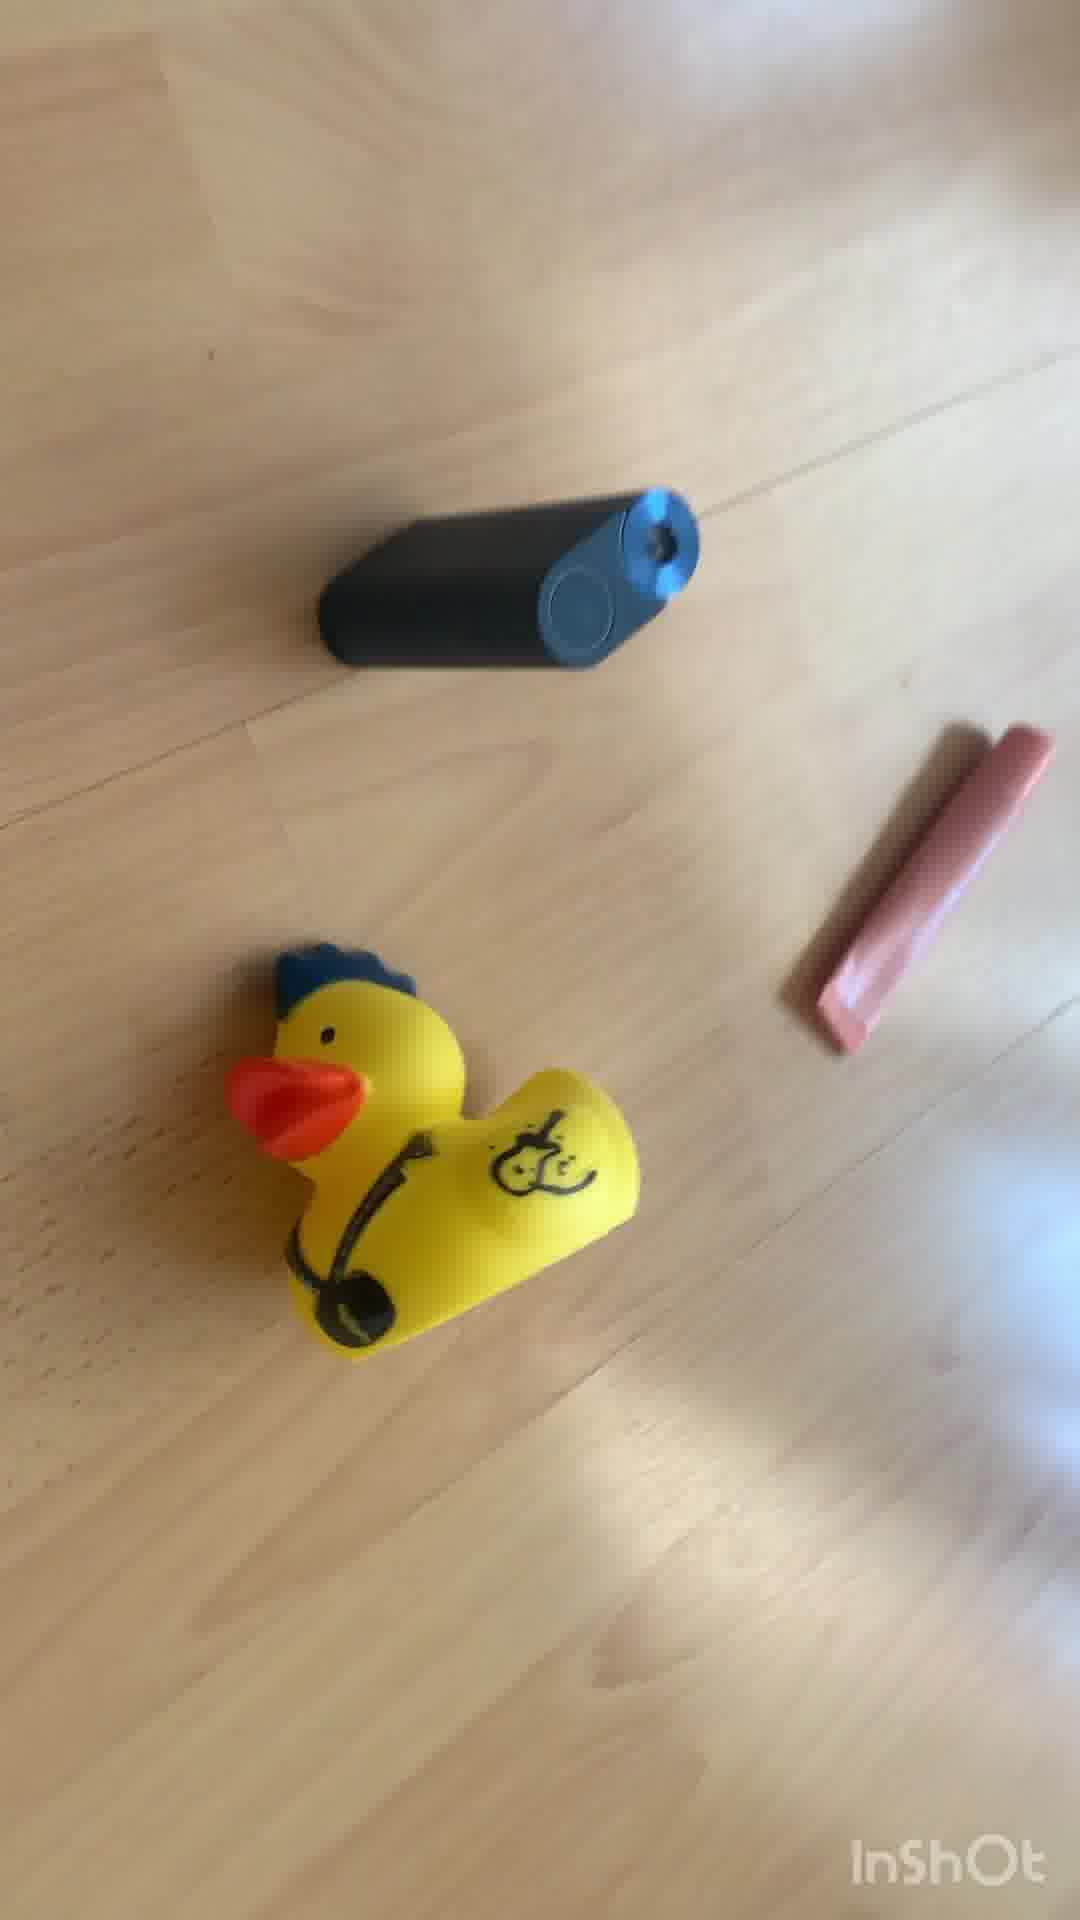duck: (215, 944, 646, 1362)
glo: (295, 491, 708, 680)
lip balm: (804, 727, 1054, 1059)
